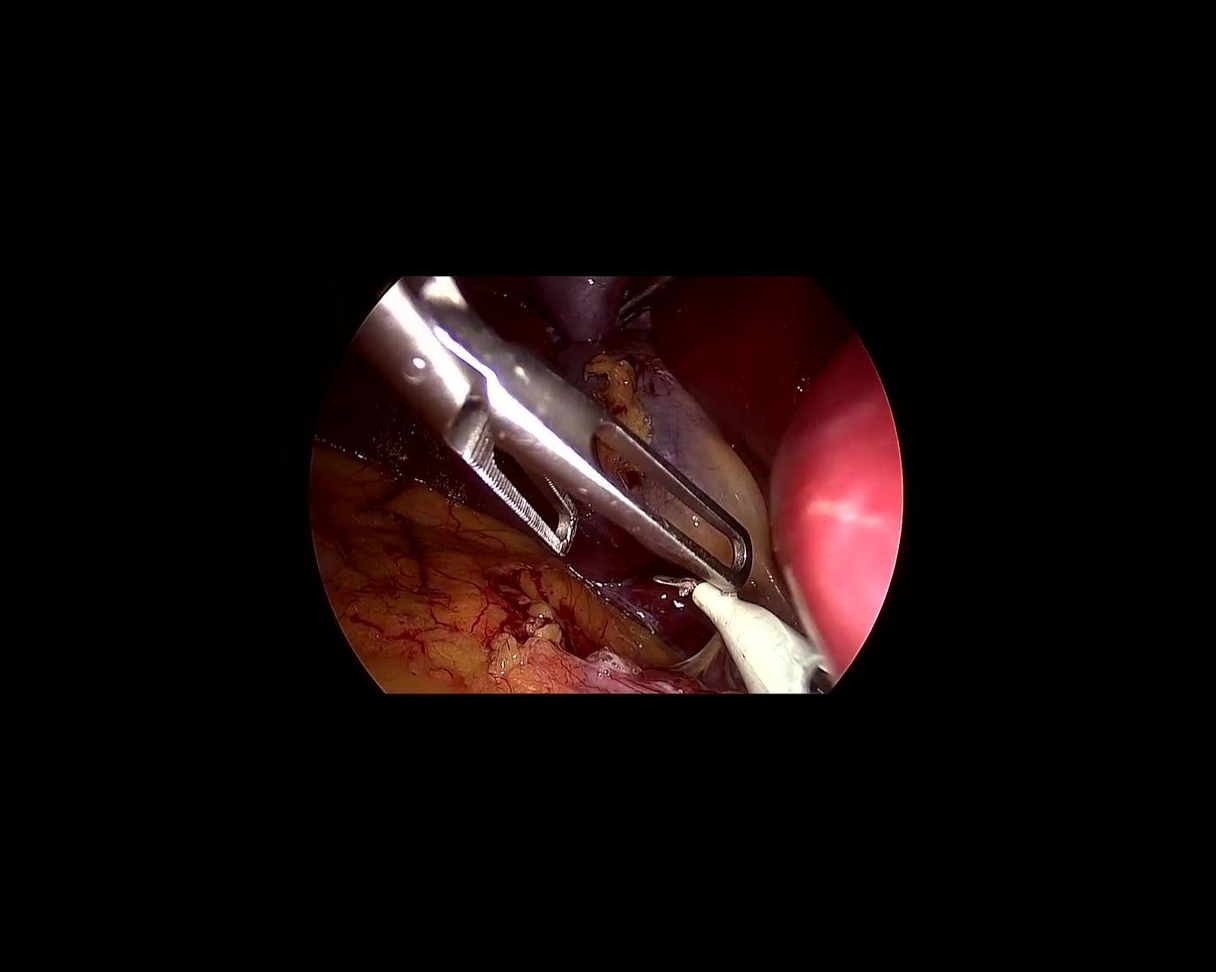Cautery: (635, 539, 843, 730)
Forceps: (323, 252, 767, 659)
Liver: (607, 220, 1007, 681), (285, 342, 508, 574)
